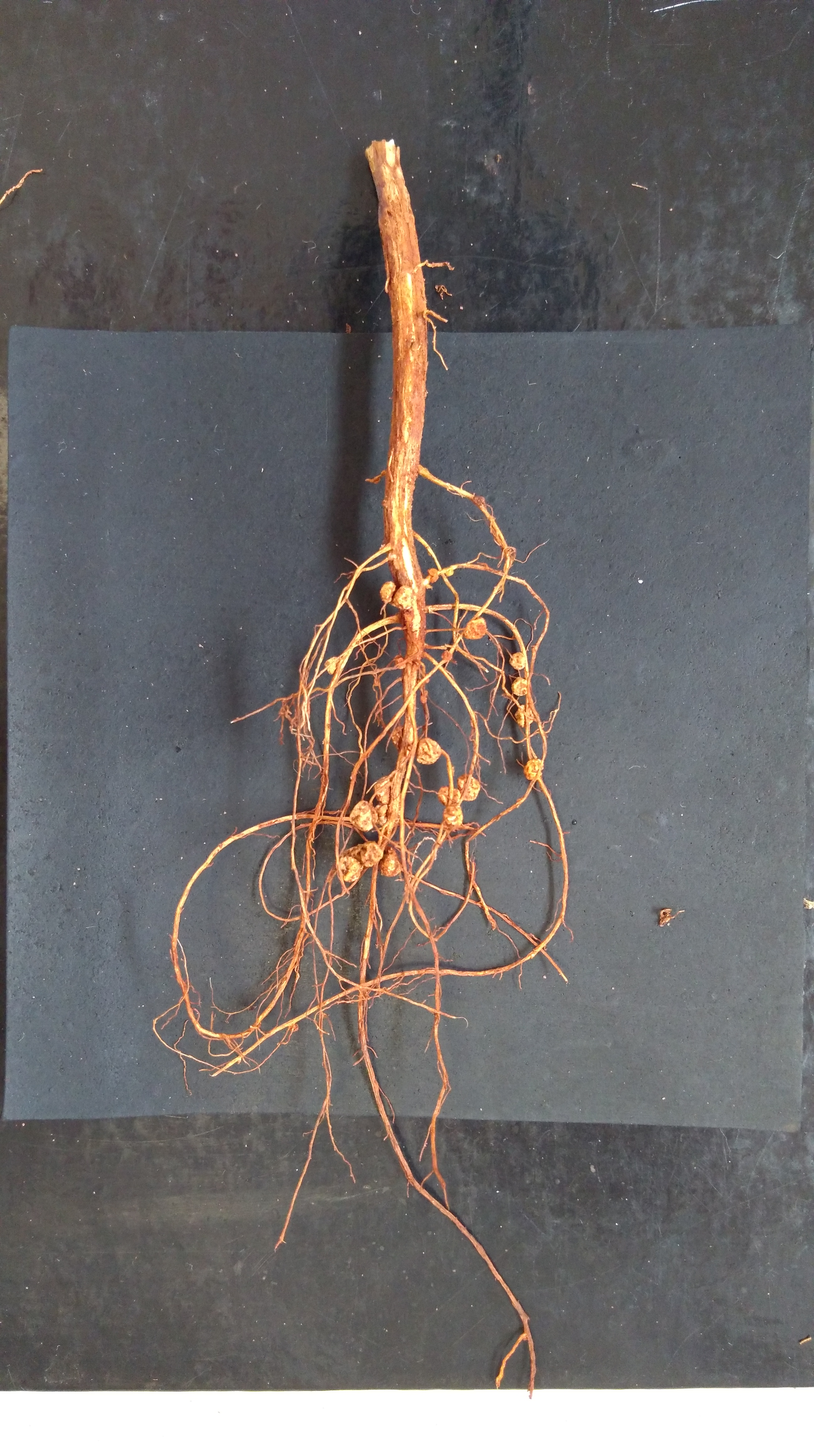nodule: (348, 799, 378, 832), (414, 736, 443, 767), (377, 846, 402, 878), (358, 840, 385, 869), (338, 855, 364, 884), (456, 773, 481, 803), (388, 584, 413, 611), (522, 757, 546, 781), (463, 617, 488, 640), (512, 703, 534, 728), (436, 785, 460, 807), (373, 775, 391, 804), (440, 806, 463, 828), (509, 675, 530, 698), (378, 580, 396, 604), (373, 804, 389, 828), (508, 651, 527, 671), (390, 725, 403, 749), (324, 656, 339, 675), (426, 567, 439, 584), (440, 649, 453, 661), (394, 657, 406, 669), (289, 1021, 300, 1031), (445, 568, 454, 578), (419, 695, 429, 704), (417, 678, 424, 688), (421, 690, 428, 697), (425, 677, 429, 684)
